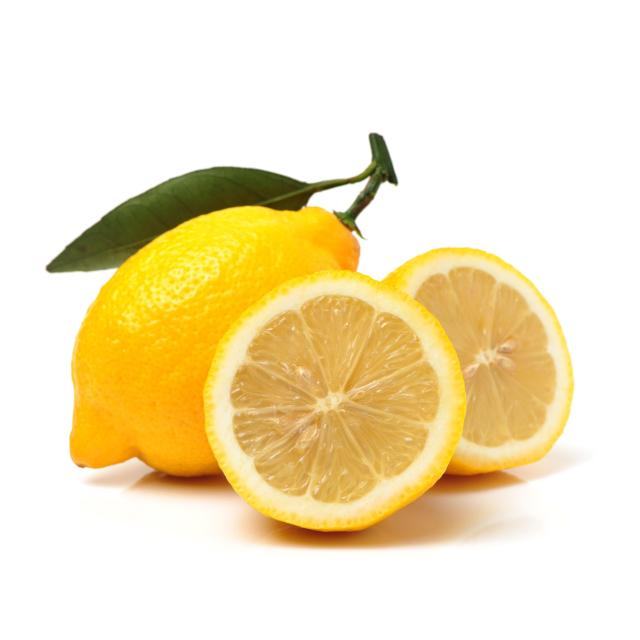lemon: (195, 265, 472, 539)
